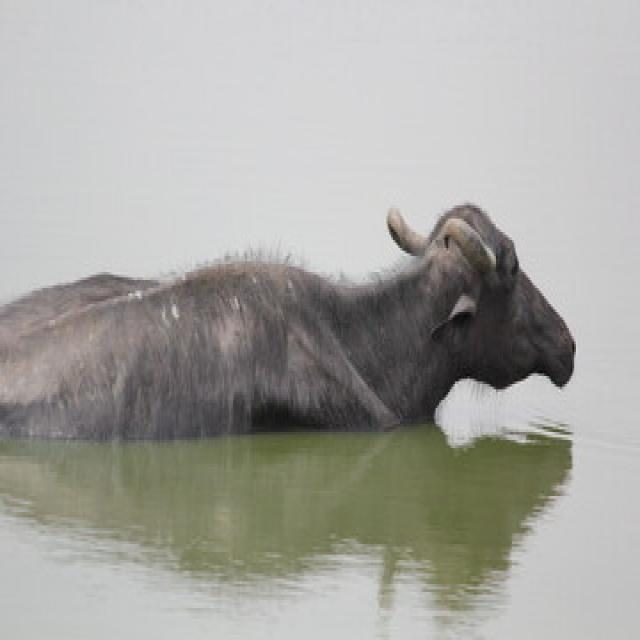Buffalo: (0, 197, 578, 443)
